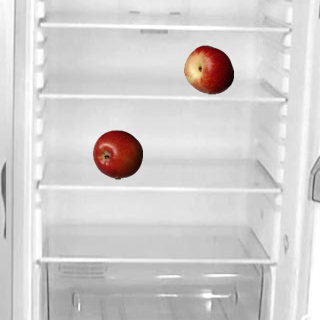Apple Braeburn: (92, 129, 142, 179)
Nectarine: (183, 44, 233, 94)
